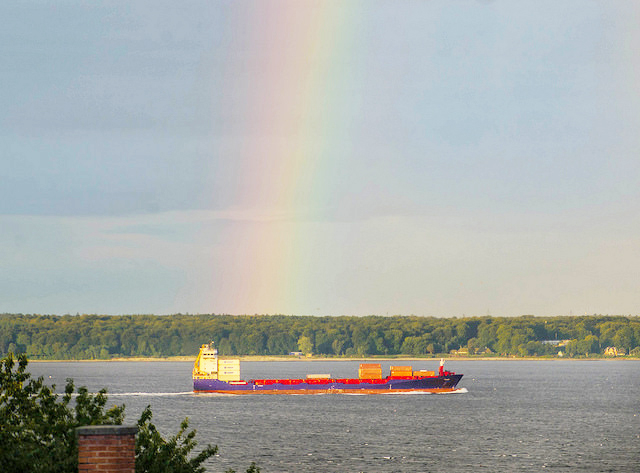container_ship: (192, 339, 471, 398)
